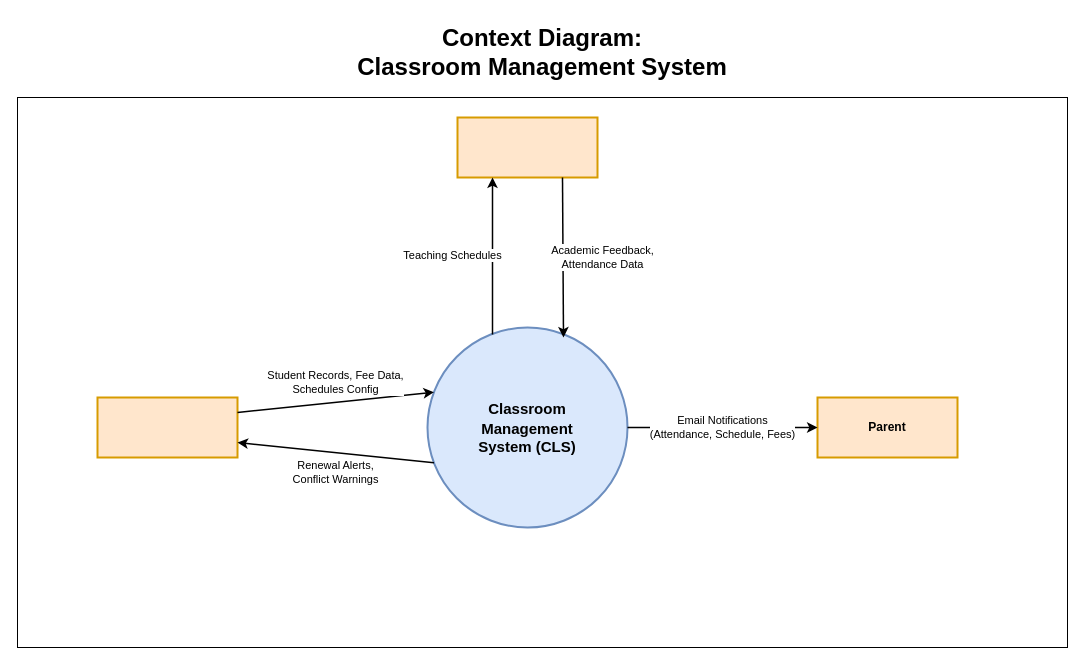
Image size: 1085x665. Some labels were removed from this diagram. Each missing label, with the centre of its shape:
"Academic Admin" belongs at point (167, 427).
"Teacher" belongs at point (527, 147).
